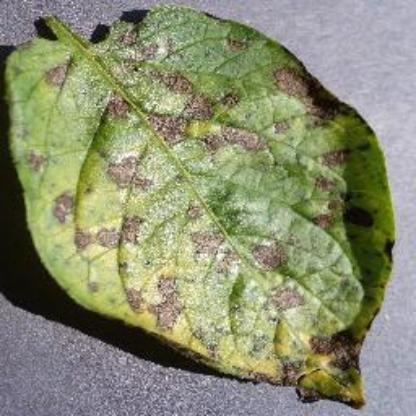Early-Blight: (3, 5, 390, 410)
